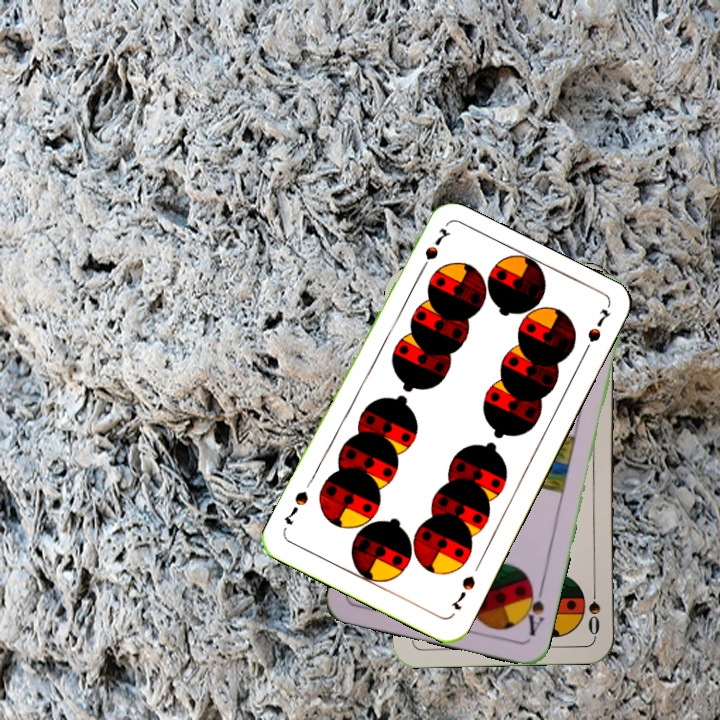S7: (414, 223, 451, 278), (447, 571, 478, 613)
SA: (518, 579, 547, 639)
SO: (585, 578, 603, 637)
